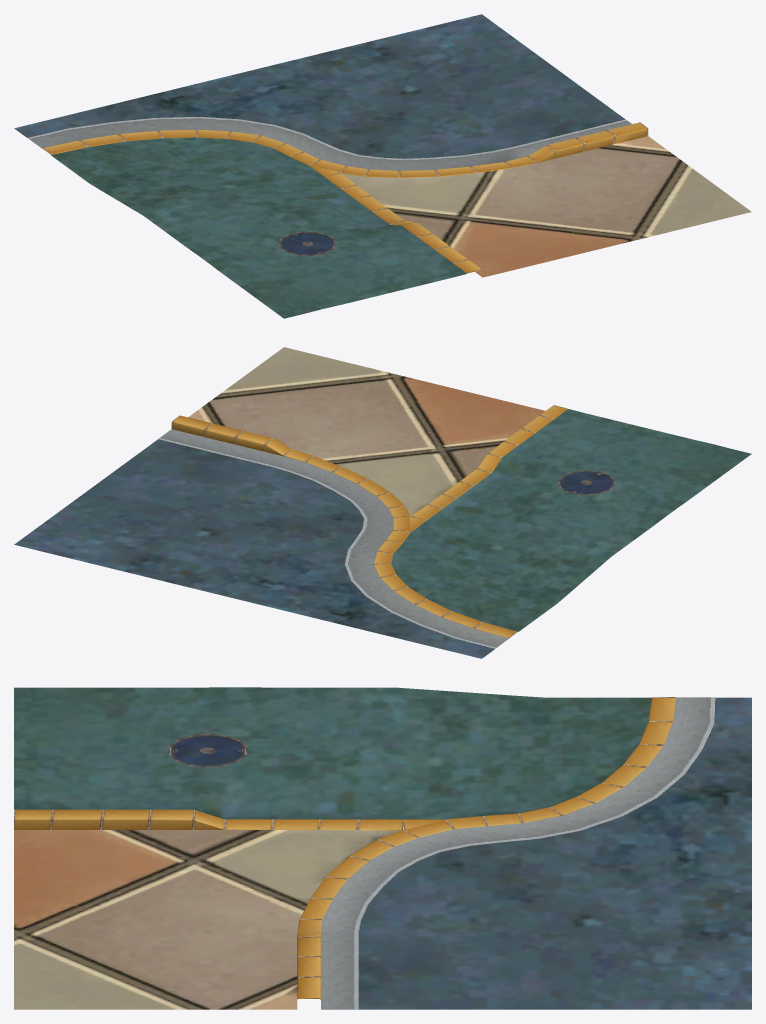
3 renders of one model, top to bottom at view 1: azimuth 30°, elevation 25°; view 2: azimuth 150°, elevation 25°; view 3: azimuth 270°, elevation 25°, orthographic. The views are drawn at different scales.
Visible parts, largest first — view 1: Joint_0_Object_1, Joint_0_Object_2, Joint_0_Object_3, Joint_0_Object_6, Joint_0_Object_4, Joint_0_Object_5, Joint_0_Object_8; view 2: Joint_0_Object_1, Joint_0_Object_2, Joint_0_Object_3, Joint_0_Object_6, Joint_0_Object_4, Joint_0_Object_5, Joint_0_Object_8; view 3: Joint_0_Object_1, Joint_0_Object_2, Joint_0_Object_3, Joint_0_Object_6, Joint_0_Object_4, Joint_0_Object_5, Joint_0_Object_8.
Boxes of the visible parts, x1,y1,x2,y2 form: Joint_0_Object_1: [14, 14, 625, 158]; Joint_0_Object_2: [51, 137, 466, 318]; Joint_0_Object_3: [342, 136, 751, 277]; Joint_0_Object_6: [28, 116, 631, 170]; Joint_0_Object_4: [42, 122, 648, 177]; Joint_0_Object_5: [309, 165, 481, 273]; Joint_0_Object_8: [281, 233, 333, 254]; Joint_0_Object_1: [14, 439, 494, 658]; Joint_0_Object_2: [391, 409, 751, 631]; Joint_0_Object_3: [188, 347, 544, 515]; Joint_0_Object_6: [158, 429, 509, 648]; Joint_0_Object_4: [171, 415, 517, 638]; Joint_0_Object_5: [409, 405, 567, 531]; Joint_0_Object_8: [560, 472, 612, 493]; Joint_0_Object_1: [358, 697, 751, 1009]; Joint_0_Object_2: [14, 687, 651, 819]; Joint_0_Object_3: [14, 830, 400, 1009]; Joint_0_Object_6: [321, 697, 715, 1009]; Joint_0_Object_4: [297, 697, 676, 999]; Joint_0_Object_5: [14, 809, 446, 830]; Joint_0_Object_8: [172, 736, 243, 765].
Bounding box in the file's own units: 10000 × 169 × 10000.
Materials: 10 (9 with a texture image).
